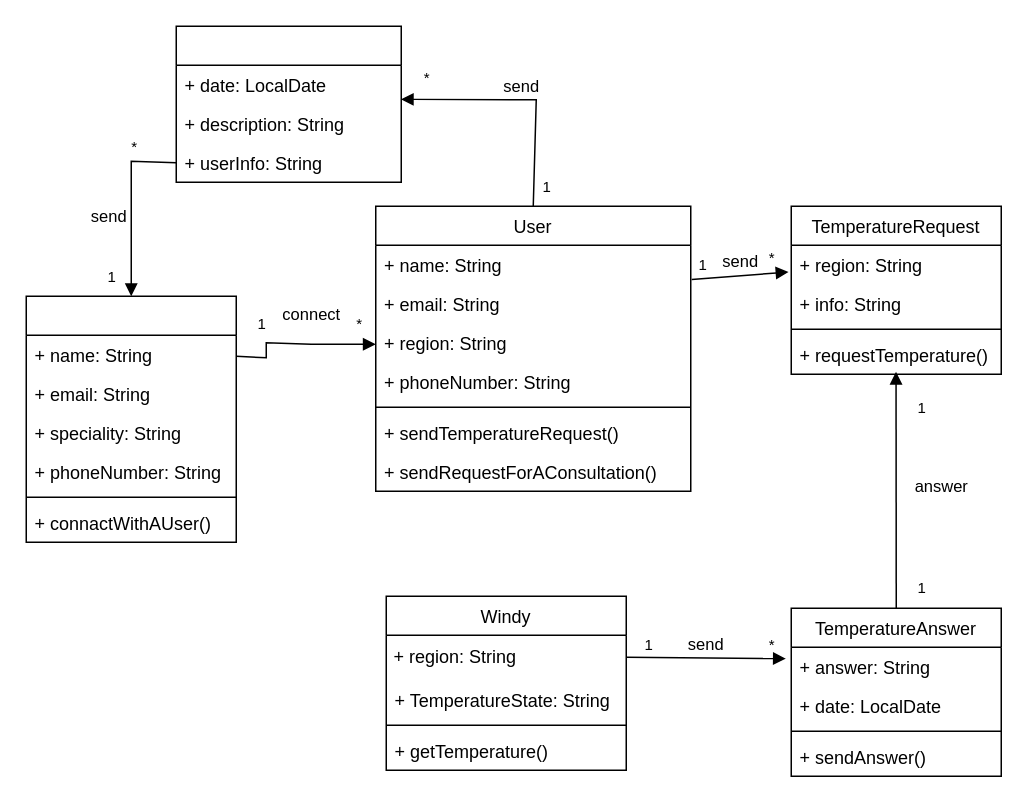
Image size: 1028x807. Some labels were removed from this diagram. Each missing label, with the box of its shape:
Doctor: (25, 295, 236, 542)
HealthConsulationRequest: (175, 25, 401, 182)
